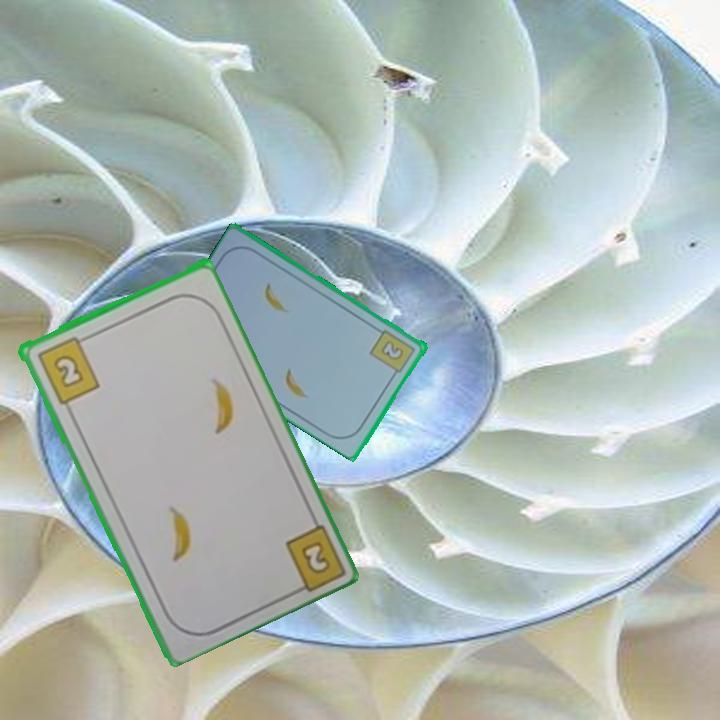2b: (33, 332, 102, 407), (367, 326, 418, 380), (297, 537, 333, 577)
